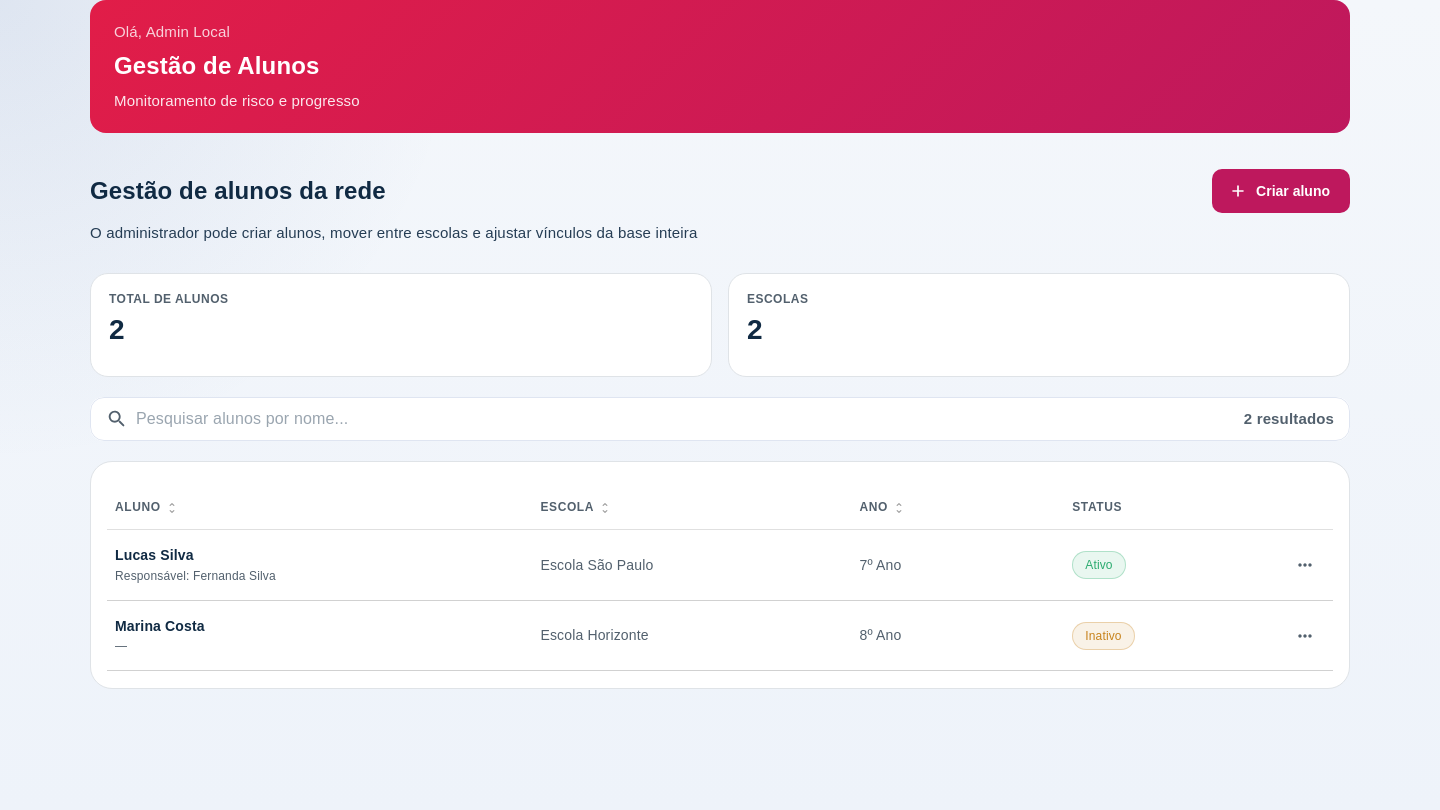
StudentsPage opens edit modal
Click the button with test id "student-menu-1": click(1305, 565) [1290,550,1320,580]
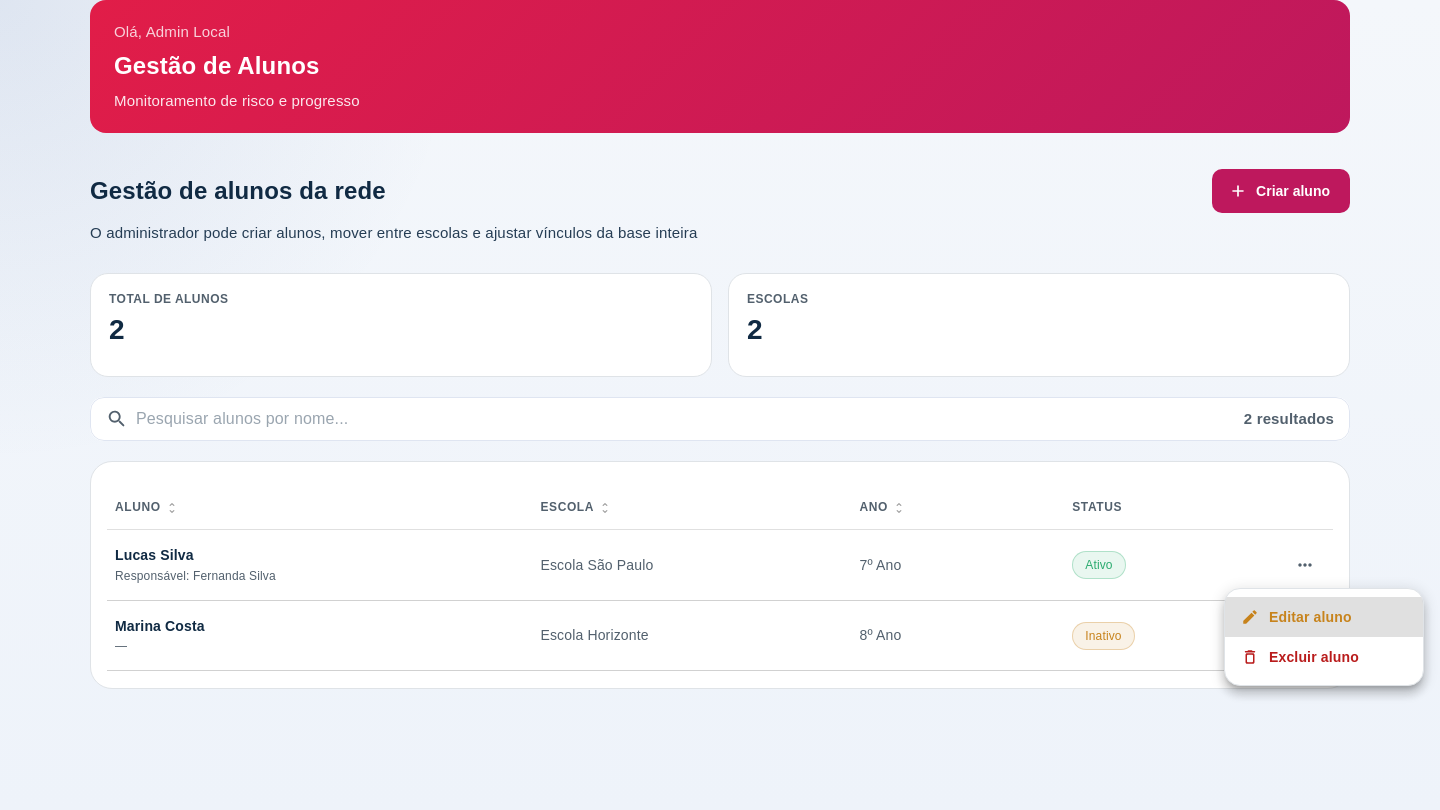
Click the menu item with test id "edit-student-action": click(1324, 617) [1225,597,1423,637]
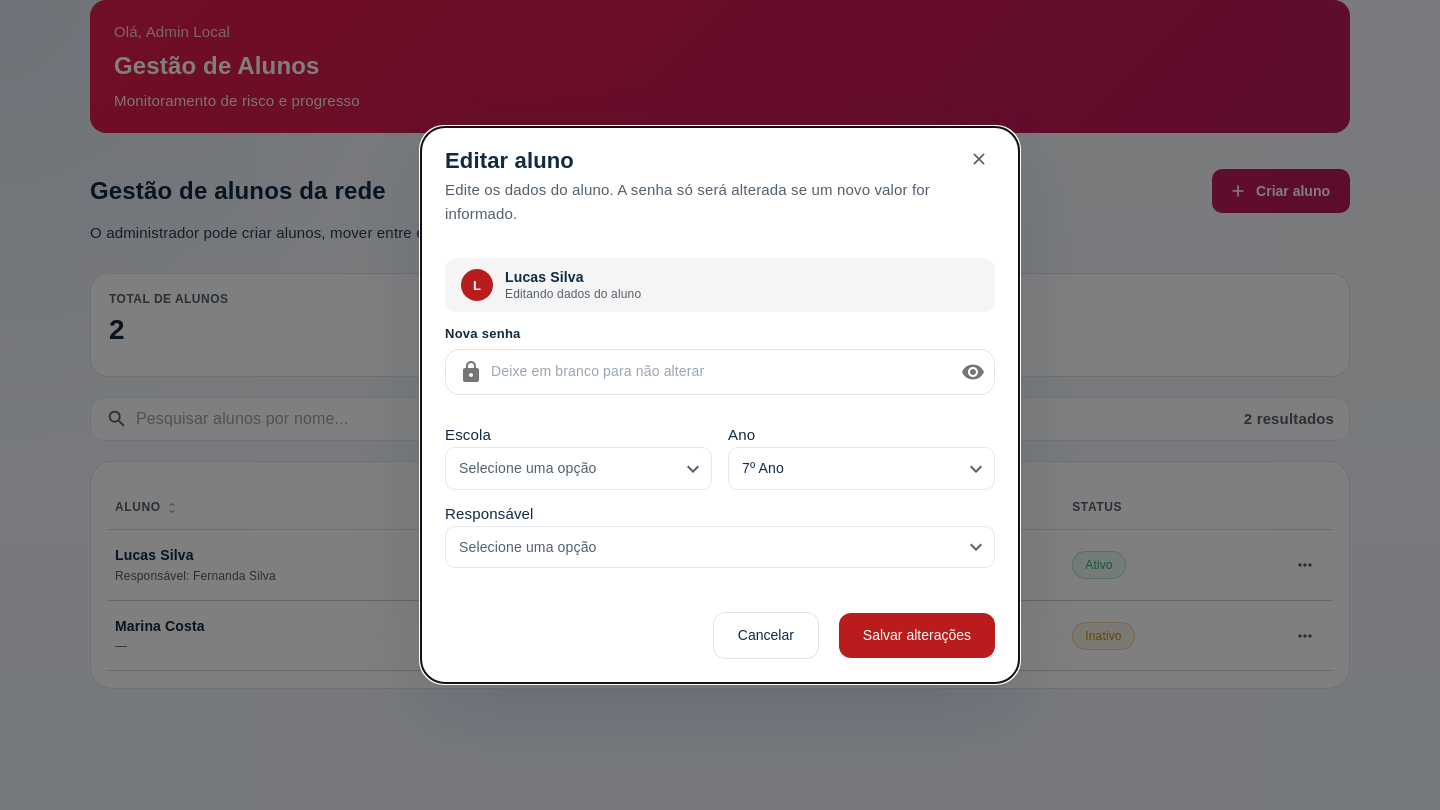
Check: the text "Editando dados do aluno" is shown, box [505,287,641,302]
Check: the password field with placeholder "Deixe em branco para não alterar" is shown, box [491,345,945,398]
